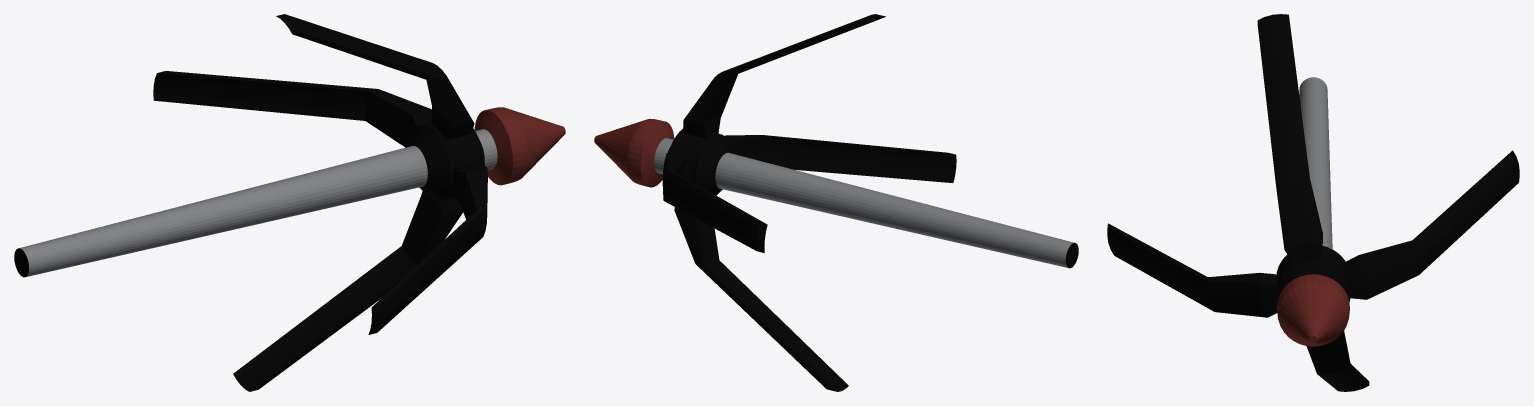
Rendered from GrappleGrapple.fbx.
3 views of the same model, side by side, from view 1: azimuth 30°, elevation 25°; view 2: azimuth 150°, elevation 25°; view 3: azimuth 270°, elevation 25° (orthographic). The views are drawn at different scales.
Parts seen in each view (by area): view 1: Cylinder.010; view 2: Cylinder.010; view 3: Cylinder.010.
Part boxes in pixels (bbox=[...]): Cylinder.010: bbox=[14, 14, 565, 391]; Cylinder.010: bbox=[594, 14, 1078, 391]; Cylinder.010: bbox=[1107, 14, 1519, 391].
Size of the model in its own units: 40.46 by 28.27 by 28.27.
